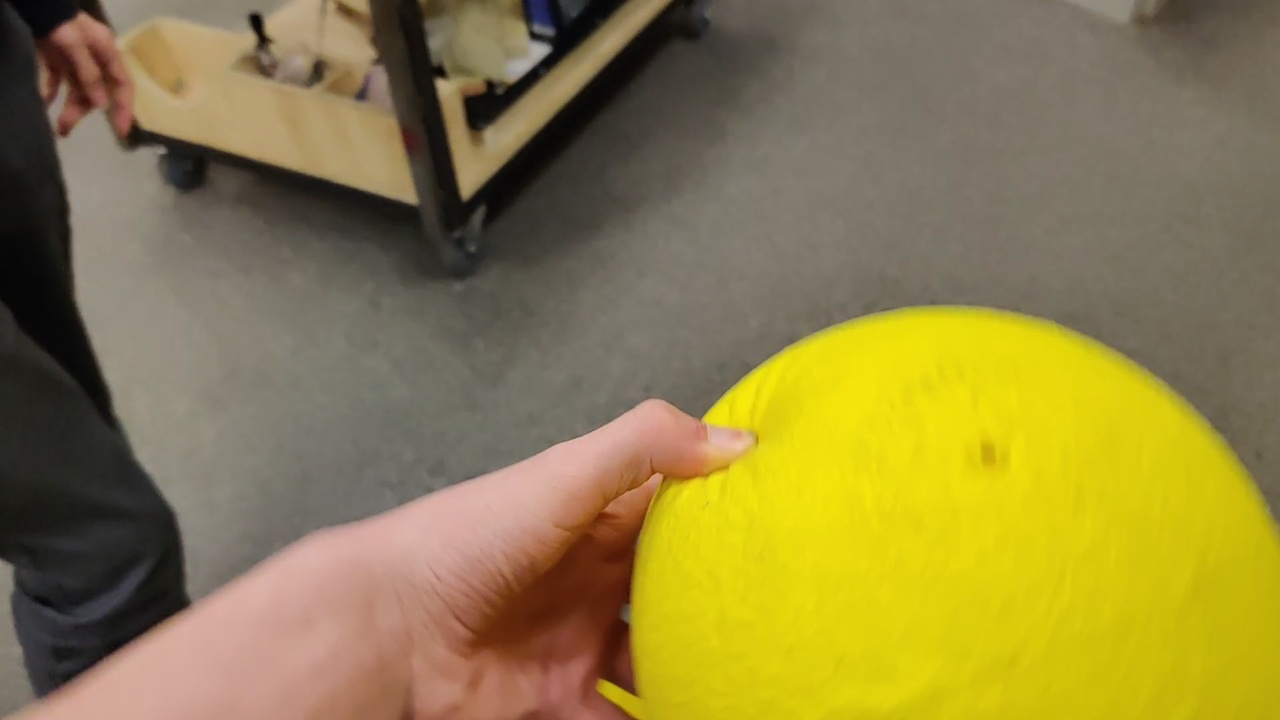Ball: (631, 306, 1253, 720)
